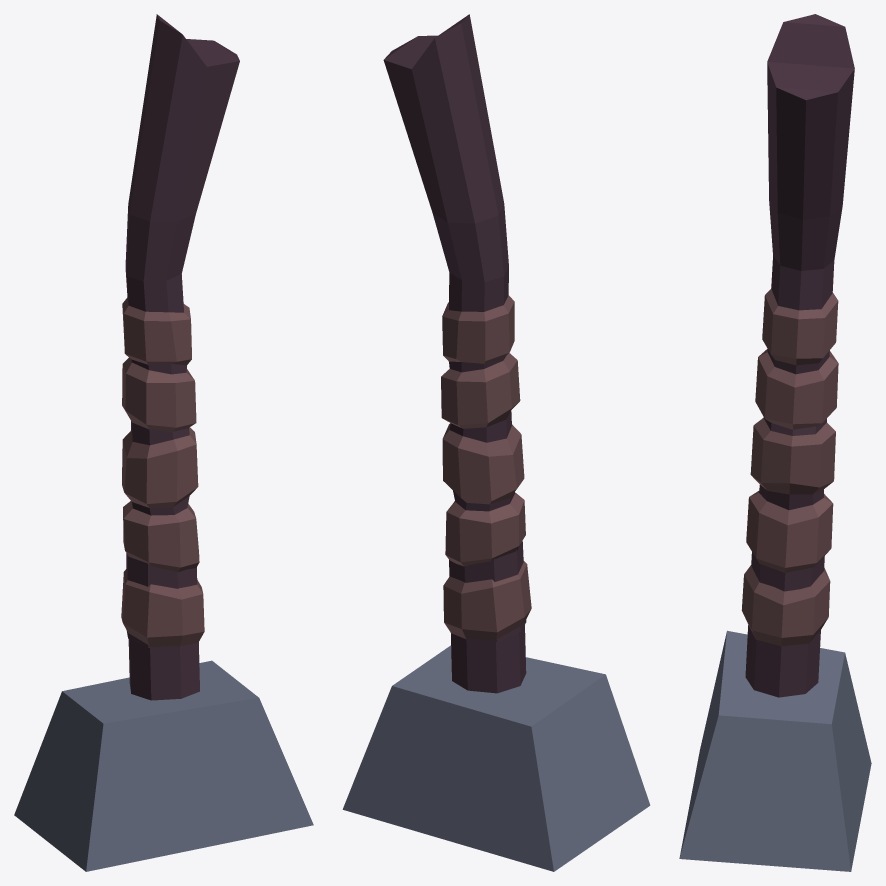
File: LeverHandle.fbx
3 views of the same model, side by side, from view 1: azimuth 30°, elevation 25°; view 2: azimuth 150°, elevation 25°; view 3: azimuth 270°, elevation 25° (orthographic). The views are drawn at different scales.
Visible parts, largest first — view 1: Axe_Double; view 2: Axe_Double; view 3: Axe_Double.
Boxes of the visible parts, x1,y1,x2,y2 form: Axe_Double: (14, 14, 313, 871); Axe_Double: (342, 14, 650, 871); Axe_Double: (679, 14, 871, 871).
Bounding box in the file's own units: 39.59 × 130 × 27.91.
